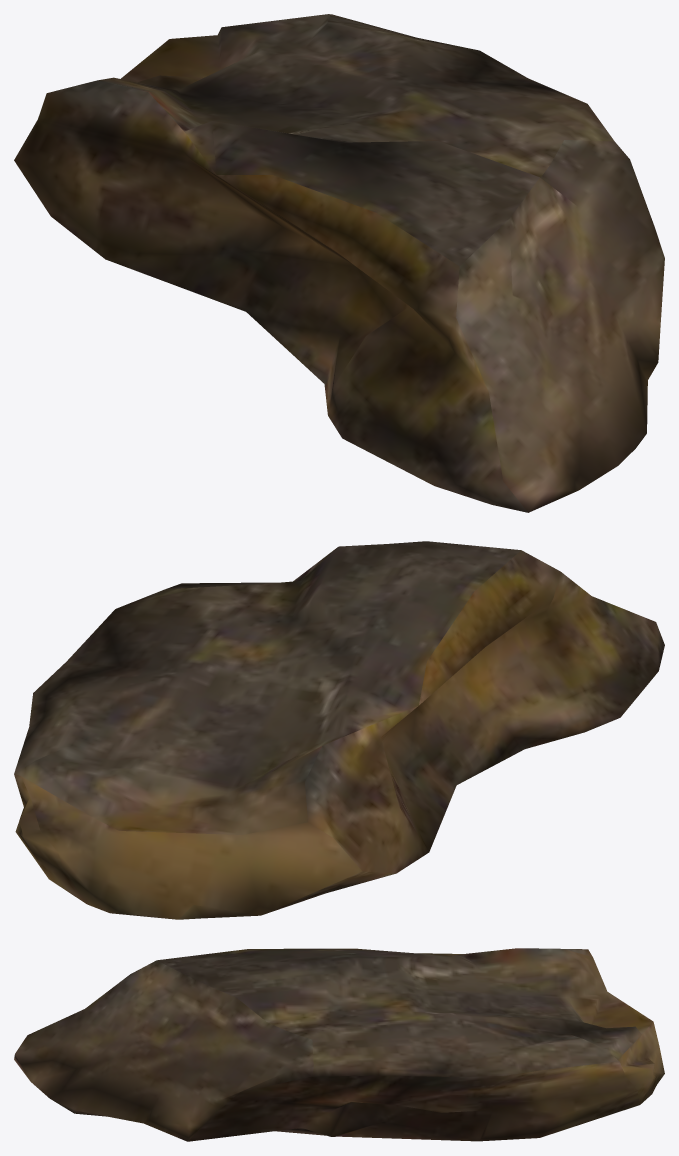
The model's file is rock_09_lod.glb.
3 renders of one model, top to bottom at view 1: azimuth 30°, elevation 25°; view 2: azimuth 150°, elevation 25°; view 3: azimuth 270°, elevation 25°, orthographic. The views are drawn at different scales.
Parts seen in each view (by area): view 1: rock_09_LOD0; view 2: rock_09_LOD0; view 3: rock_09_LOD0.
Boxes of the visible parts, x1,y1,x2,y2 form: rock_09_LOD0: [14, 14, 664, 512]; rock_09_LOD0: [14, 541, 664, 919]; rock_09_LOD0: [14, 948, 664, 1141].
Size of the model in its own units: 0.0738 by 0.0306 by 0.1442.
Materials: 1 (1 with a texture image).
